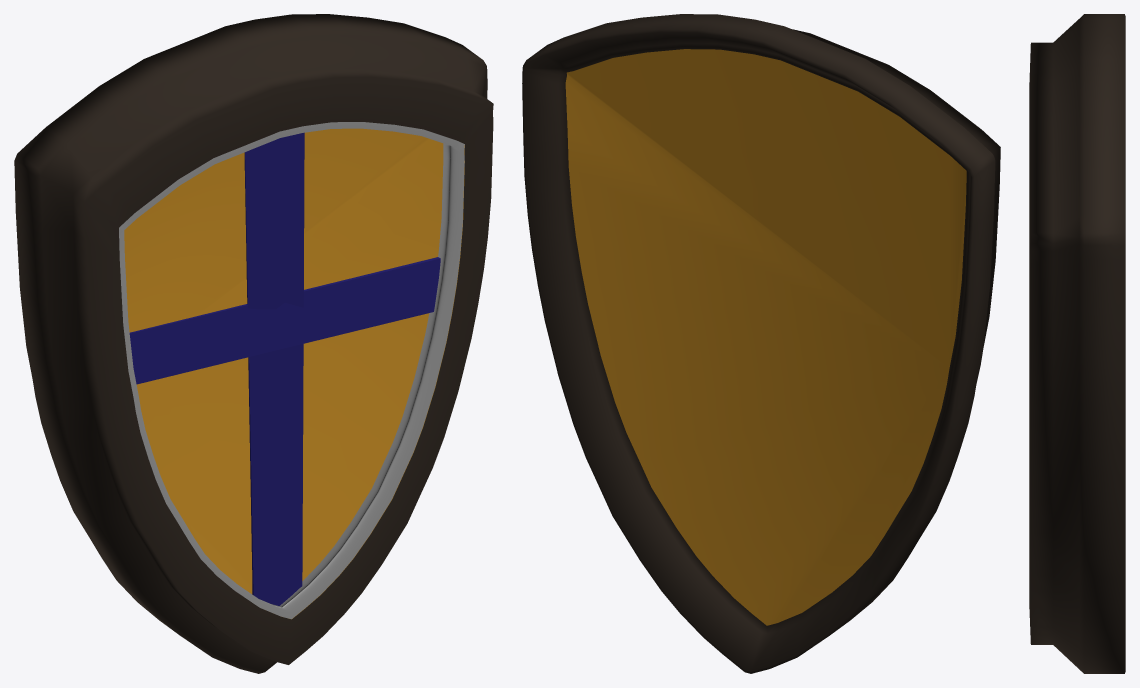
The model's file is ShieldMIddle.fbx.
The picture shows the model from 3 angles, left to right: view 1: azimuth 30°, elevation 25°; view 2: azimuth 150°, elevation 25°; view 3: azimuth 270°, elevation 25°; orthographic projection. The views are drawn at different scales.
Visible parts, largest first — view 1: Cube; view 2: Cube; view 3: Cube.
Part boxes in pixels (<box>): Cube: <box>14,14,493,673</box>; Cube: <box>522,14,1000,673</box>; Cube: <box>1029,14,1125,673</box>.
Bounding box in the file's own units: 543 × 729 × 103.
